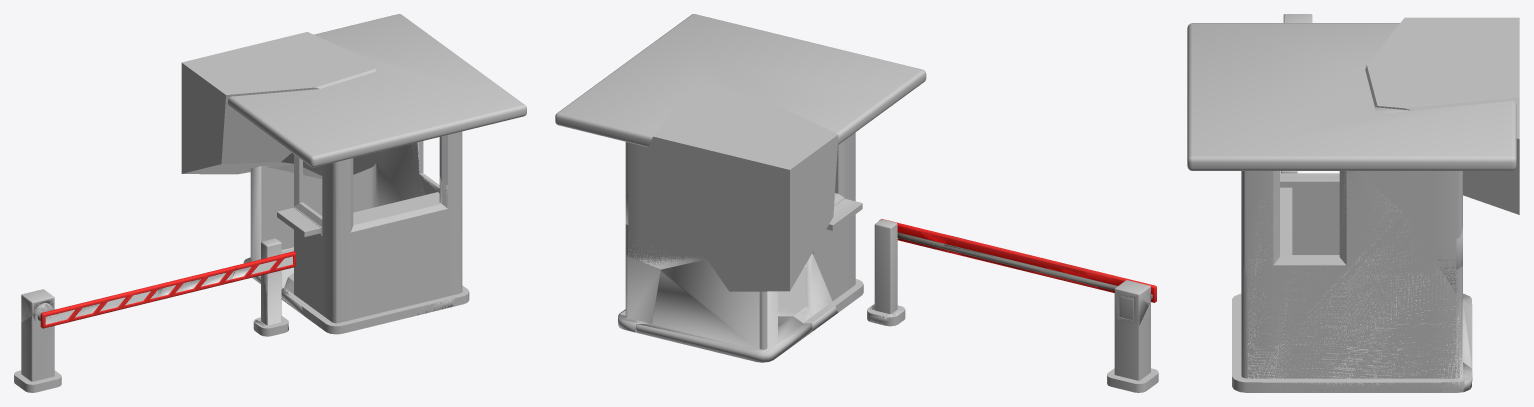
The model's file is Checkpoint.fbx.
The picture shows the model from 3 angles, left to right: view 1: azimuth 30°, elevation 25°; view 2: azimuth 150°, elevation 25°; view 3: azimuth 270°, elevation 25°; orthographic projection. The views are drawn at different scales.
Parts seen in each view (by area): view 1: Guard House, Guard House_cell.008, Gate Stands, Gate Fence, Guard House_cell.005, Guard House_cell.003, Gate Stands_cell.001, Gate Fence_cell.001, Guard House_cell.007, Gate Fence_cell.003, Gate Stands_cell.002; view 2: Guard House_cell.008, Guard House, Guard House_cell.003, Gate Stands, Guard House_cell.005, Gate Fence, Gate Stands_cell, Gate Fence_cell.003, Guard House_cell.007; view 3: Guard House, Guard House_cell.008, Guard House_cell.005, Guard House_cell.003, Guard House_cell.007.
Boxes of the visible parts, left/top/right/bottom form: Guard House: left=228, top=47, right=525, bottom=334; Guard House_cell.008: left=181, top=14, right=526, bottom=174; Gate Stands: left=14, top=238, right=288, bottom=392; Gate Fence: left=37, top=251, right=295, bottom=328; Guard House_cell.005: left=281, top=142, right=454, bottom=315; Guard House_cell.003: left=243, top=166, right=293, bottom=288; Gate Stands_cell.001: left=254, top=238, right=288, bottom=330; Gate Fence_cell.001: left=129, top=267, right=236, bottom=301; Guard House_cell.007: left=273, top=63, right=381, bottom=178; Gate Fence_cell.003: left=40, top=291, right=154, bottom=328; Gate Stands_cell.002: left=21, top=294, right=54, bottom=322; Guard House_cell.008: left=556, top=19, right=926, bottom=291; Guard House: left=555, top=14, right=925, bottom=349; Guard House_cell.003: left=635, top=259, right=812, bottom=362; Gate Stands: left=867, top=219, right=1158, bottom=392; Guard House_cell.005: left=618, top=251, right=838, bottom=332; Gate Fence: left=879, top=219, right=1156, bottom=302; Gate Stands_cell: left=1107, top=308, right=1158, bottom=392; Gate Fence_cell.003: left=1033, top=262, right=1156, bottom=301; Guard House_cell.007: left=625, top=193, right=706, bottom=269; Guard House: left=1188, top=23, right=1516, bottom=392; Guard House_cell.008: left=1187, top=17, right=1519, bottom=214; Guard House_cell.005: left=1240, top=171, right=1472, bottom=392; Guard House_cell.003: left=1463, top=293, right=1472, bottom=368; Guard House_cell.007: left=1375, top=107, right=1462, bottom=292.
Size of the model in its own units: 1224 by 508 by 585.
